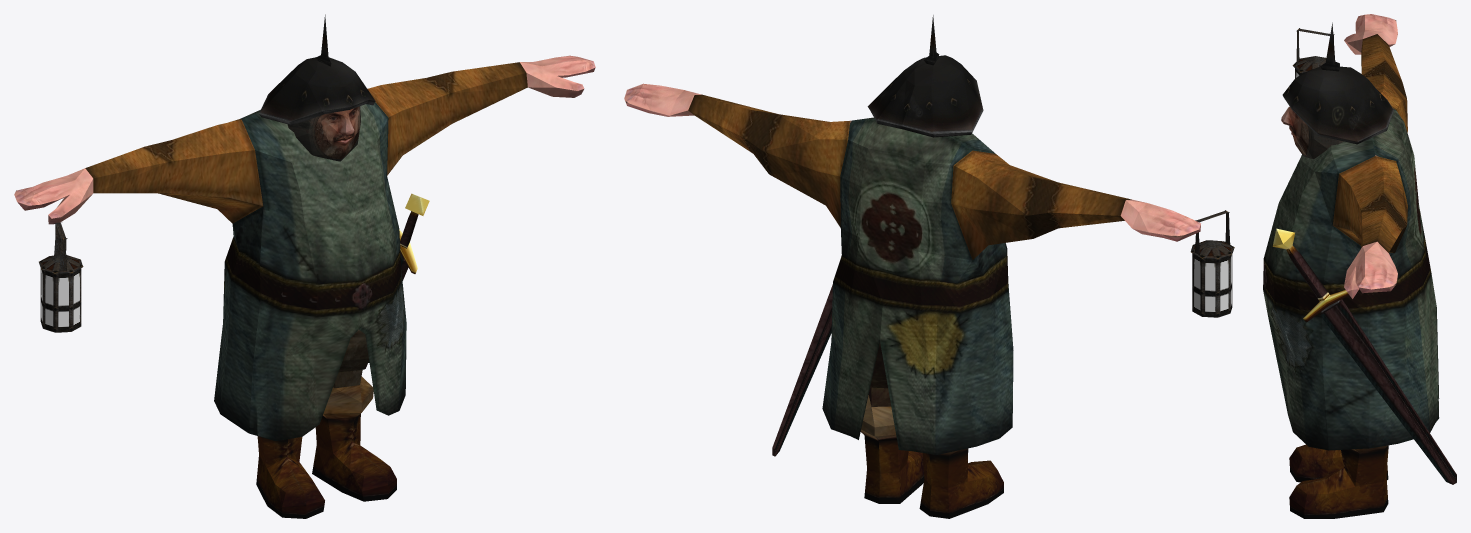
File: boblampclean.obj
3 views of the same model, side by side, from view 1: azimuth 30°, elevation 25°; view 2: azimuth 150°, elevation 25°; view 3: azimuth 270°, elevation 25° (orthographic). The views are drawn at different scales.
Visible parts, largest first — view 1: <MD5_Mesh>_meshId0_name, <MD5_Mesh>.002_meshId2_name, <MD5_Mesh>.001_meshId1_name, <MD5_Mesh>.003_meshId3_name, <MD5_Mesh>.005_meshId5_name, <MD5_Mesh>.004_meshId4_name; view 2: <MD5_Mesh>_meshId0_name, <MD5_Mesh>.002_meshId2_name, <MD5_Mesh>.003_meshId3_name, <MD5_Mesh>.005_meshId5_name, <MD5_Mesh>.004_meshId4_name; view 3: <MD5_Mesh>_meshId0_name, <MD5_Mesh>.002_meshId2_name, <MD5_Mesh>.005_meshId5_name, <MD5_Mesh>.001_meshId1_name, <MD5_Mesh>.004_meshId4_name.
Boxes of the visible parts, left/top/right/bottom form: <MD5_Mesh>_meshId0_name: left=14, top=55, right=595, bottom=518; <MD5_Mesh>.002_meshId2_name: left=259, top=14, right=375, bottom=125; <MD5_Mesh>.001_meshId1_name: left=287, top=106, right=360, bottom=161; <MD5_Mesh>.003_meshId3_name: left=40, top=268, right=81, bottom=332; <MD5_Mesh>.005_meshId5_name: left=363, top=193, right=429, bottom=369; <MD5_Mesh>.004_meshId4_name: left=39, top=222, right=83, bottom=273; <MD5_Mesh>_meshId0_name: left=624, top=83, right=1200, bottom=518; <MD5_Mesh>.002_meshId2_name: left=867, top=15, right=983, bottom=137; <MD5_Mesh>.003_meshId3_name: left=1192, top=253, right=1232, bottom=317; <MD5_Mesh>.005_meshId5_name: left=772, top=284, right=832, bottom=456; <MD5_Mesh>.004_meshId4_name: left=1190, top=210, right=1234, bottom=258; <MD5_Mesh>_meshId0_name: left=1263, top=14, right=1439, bottom=518; <MD5_Mesh>.002_meshId2_name: left=1282, top=22, right=1393, bottom=144; <MD5_Mesh>.005_meshId5_name: left=1272, top=228, right=1456, bottom=484; <MD5_Mesh>.001_meshId1_name: left=1281, top=106, right=1343, bottom=158; <MD5_Mesh>.004_meshId4_name: left=1292, top=28, right=1334, bottom=72.
Bounding box in the file's own units: 85.08 × 67.06 × 25.1.
Materials: 6 (6 with a texture image).
